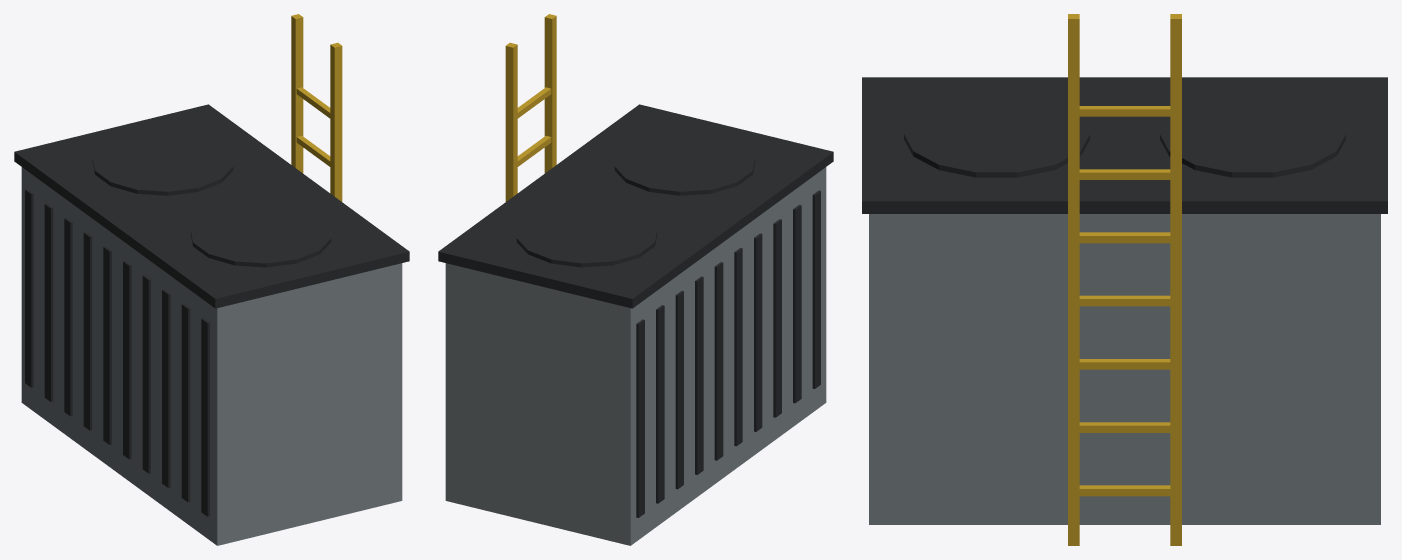
The model's file is ac_chiller.glb.
3 views of the same model, side by side, from view 1: azimuth 30°, elevation 25°; view 2: azimuth 150°, elevation 25°; view 3: azimuth 270°, elevation 25° (orthographic). The views are drawn at different scales.
Parts seen in each view (by area): view 1: ac_chiller; view 2: ac_chiller; view 3: ac_chiller.
Part boxes in pixels (x1,y1,x2,y2): ac_chiller: (14, 14, 409, 545); ac_chiller: (438, 14, 833, 545); ac_chiller: (862, 14, 1387, 545).
Size of the model in its own units: 1.33 by 2.5 by 2.26.
